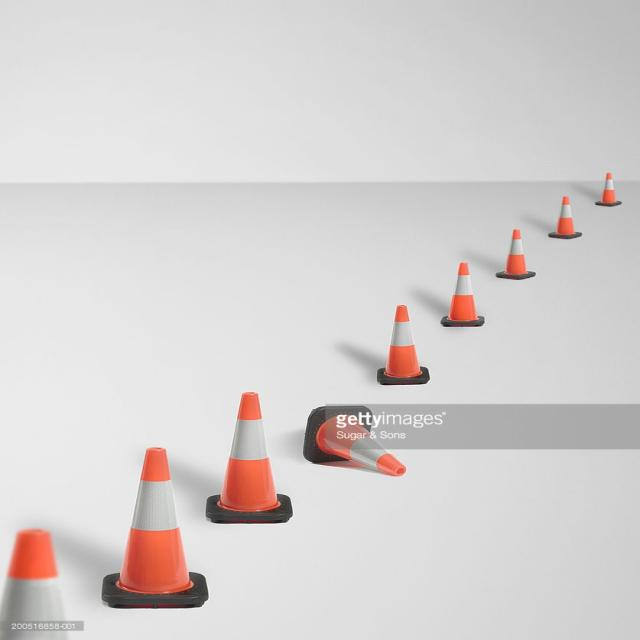cone: (94, 441, 207, 616), (202, 391, 289, 525), (375, 304, 430, 390), (436, 259, 490, 329), (492, 227, 540, 279), (548, 196, 582, 239), (594, 170, 620, 209)
